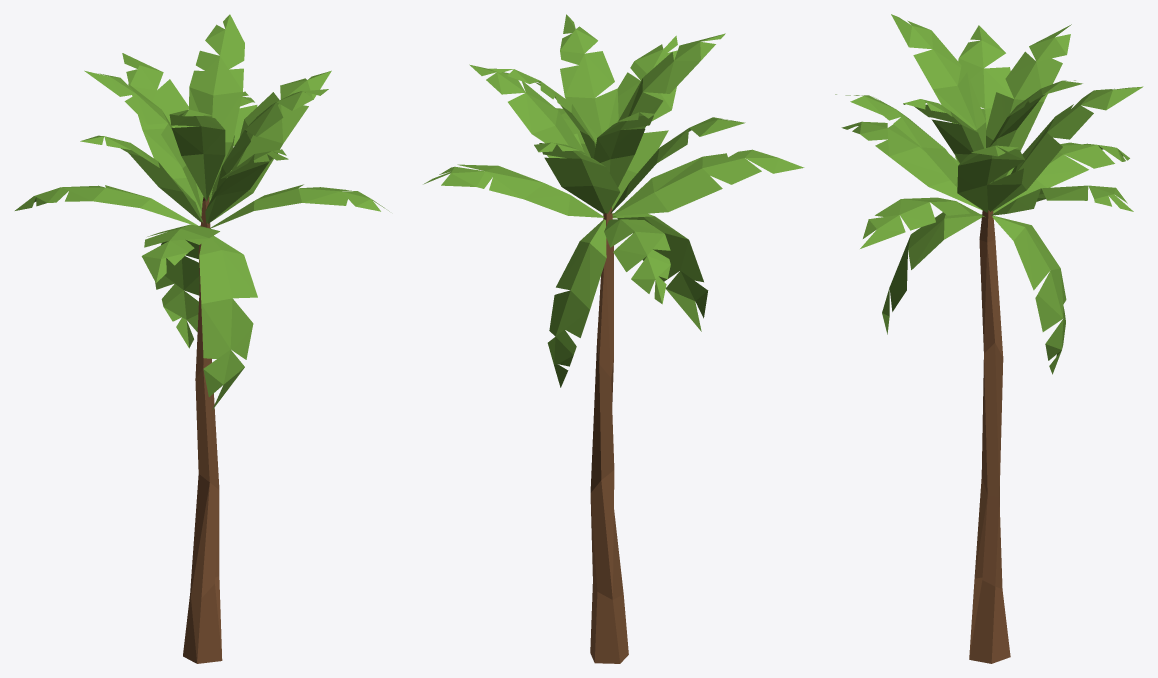
The model's file is nature_palm-high.fbx.
3 views of the same model, side by side, from view 1: azimuth 30°, elevation 25°; view 2: azimuth 150°, elevation 25°; view 3: azimuth 270°, elevation 25° (orthographic). The views are drawn at different scales.
Visible parts, largest first — view 1: nature_palm_high; view 2: nature_palm_high; view 3: nature_palm_high.
Boxes of the visible parts, box(x1,y1,x2,y2) form: nature_palm_high: box(15, 14, 389, 663); nature_palm_high: box(423, 14, 804, 663); nature_palm_high: box(835, 14, 1143, 663).
Bounding box in the file's own units: 92.69 × 200 × 92.69.
